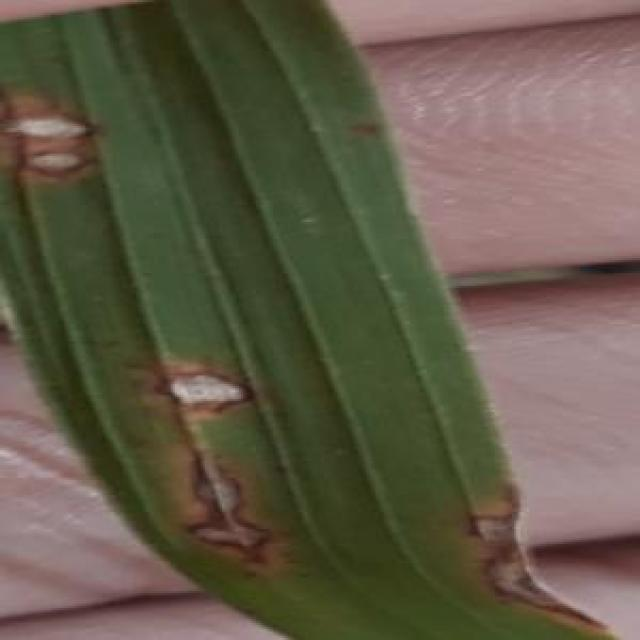Leaf_Blast: (113, 316, 267, 431), (484, 552, 612, 638), (444, 463, 540, 561), (143, 448, 256, 514), (186, 510, 288, 572), (0, 94, 109, 149), (10, 145, 106, 188)
